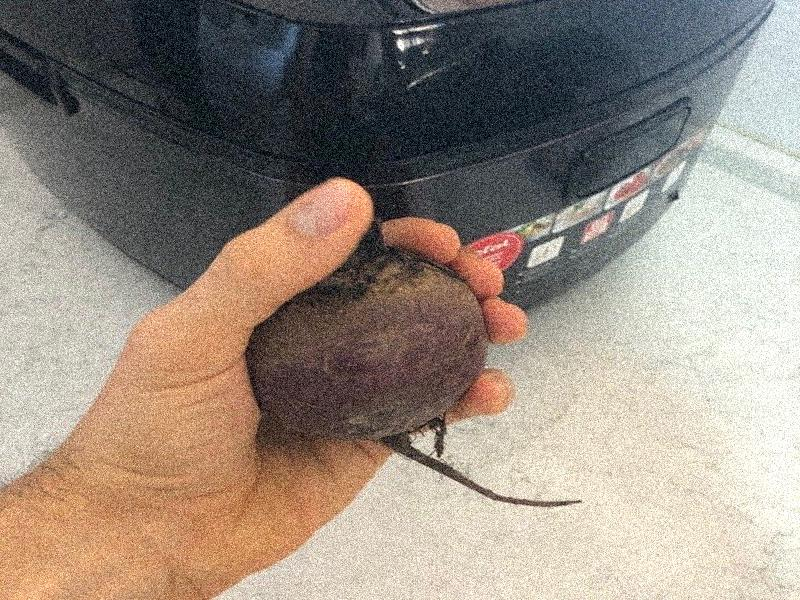Beet: (247, 220, 581, 506)
